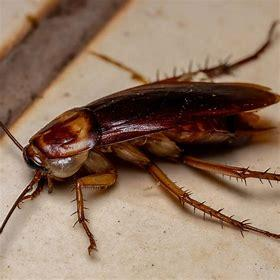cockroach: (0, 24, 280, 257)
